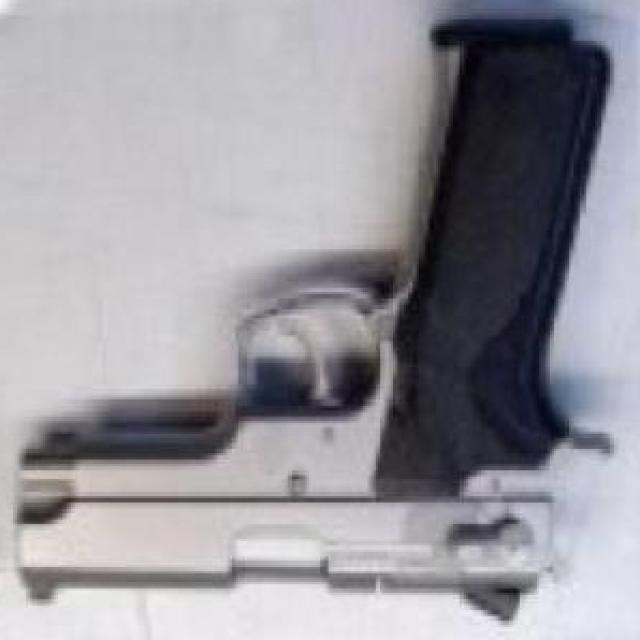pistol: (9, 18, 625, 625)
